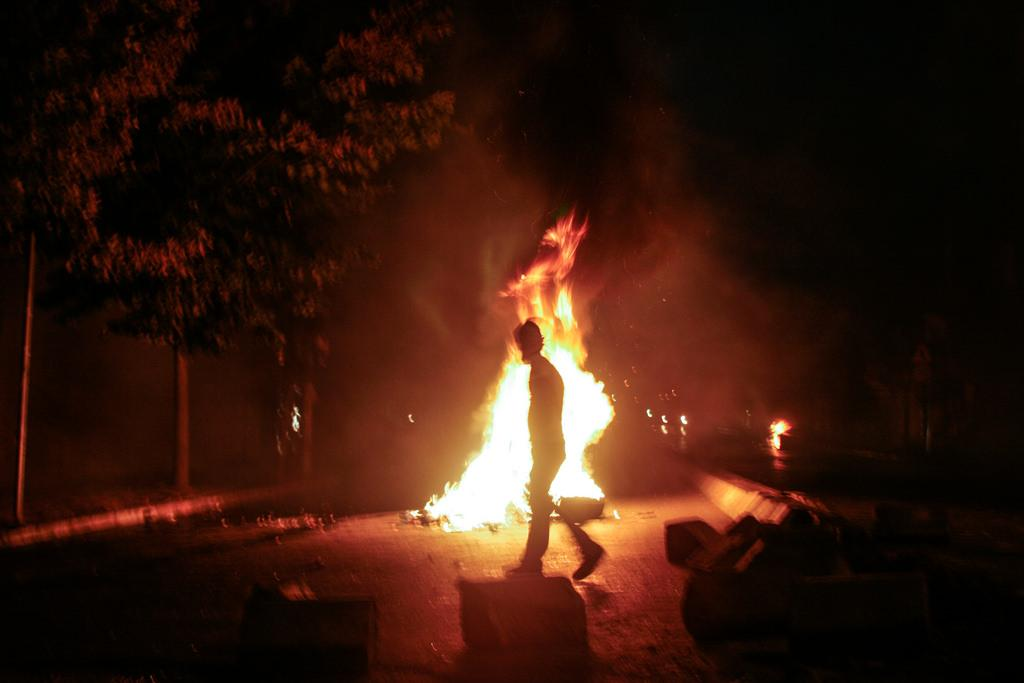fire: (478, 382, 528, 510), (567, 372, 598, 483)
